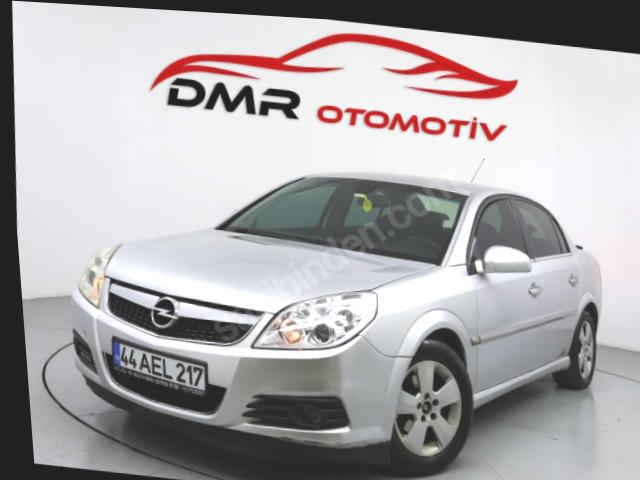plaka: (112, 338, 207, 397)
